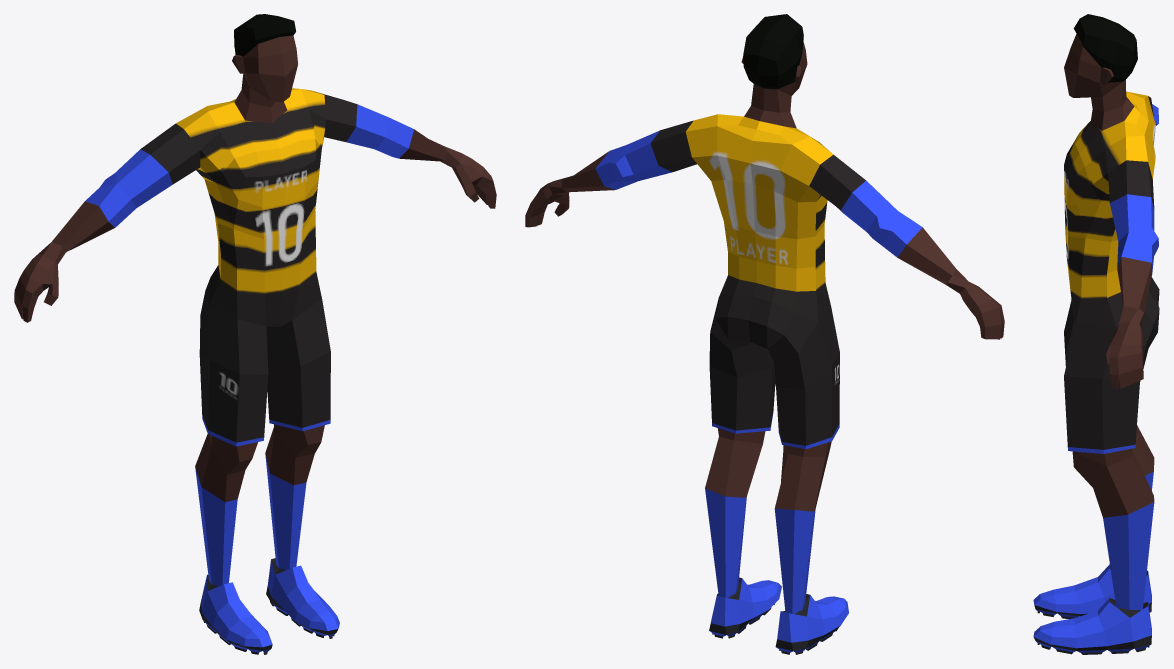
Rendered from SoccerManA.gltf.
The picture shows the model from 3 angles, left to right: view 1: azimuth 30°, elevation 25°; view 2: azimuth 150°, elevation 25°; view 3: azimuth 270°, elevation 25°; orthographic projection.
Visible parts, largest first — view 1: Soccer Man A; view 2: Soccer Man A; view 3: Soccer Man A.
Part boxes in pixels (x1,y1,x2,y2): Soccer Man A: [14, 14, 496, 654]; Soccer Man A: [525, 14, 1004, 654]; Soccer Man A: [1033, 14, 1159, 654].
Bounding box in the file's own units: 1.35 × 1.68 × 0.3125.
Materials: 1 (1 with a texture image).
